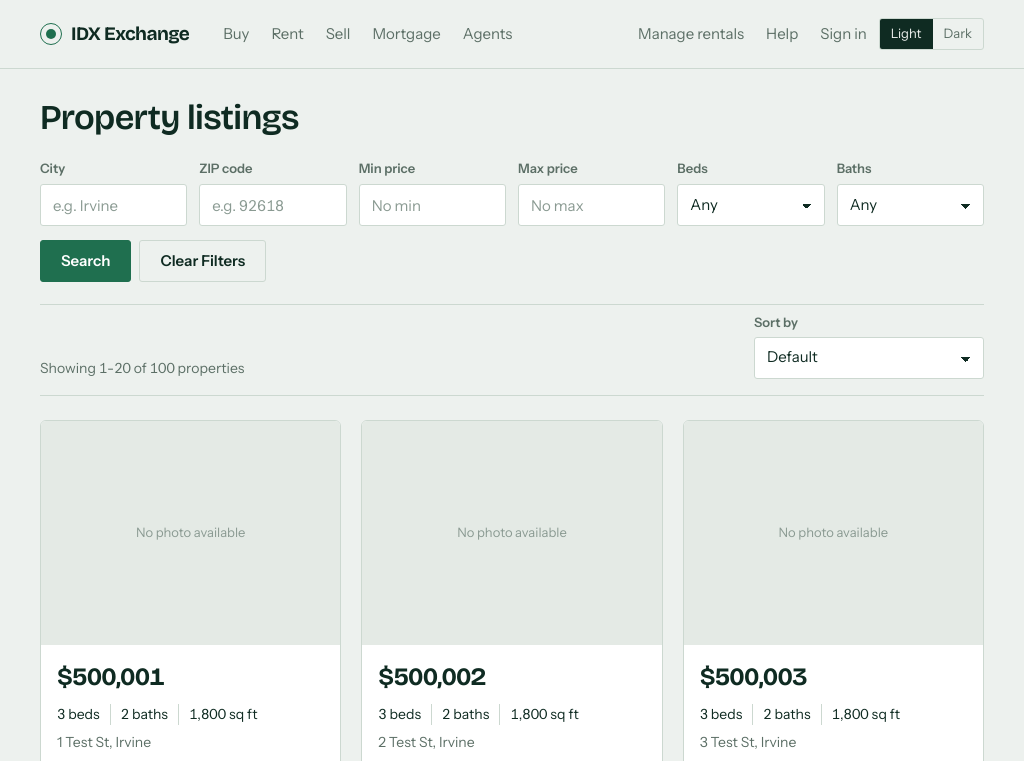
ListingsPage pagination › "Go to page" keeps the active filters
Check: the text "Showing 1-20 of 100 properties" is shown, box [40,358,244,379]
Step 1. Type "Irvine" into the field labelled "City" → (114, 205), box [40,184,187,226]
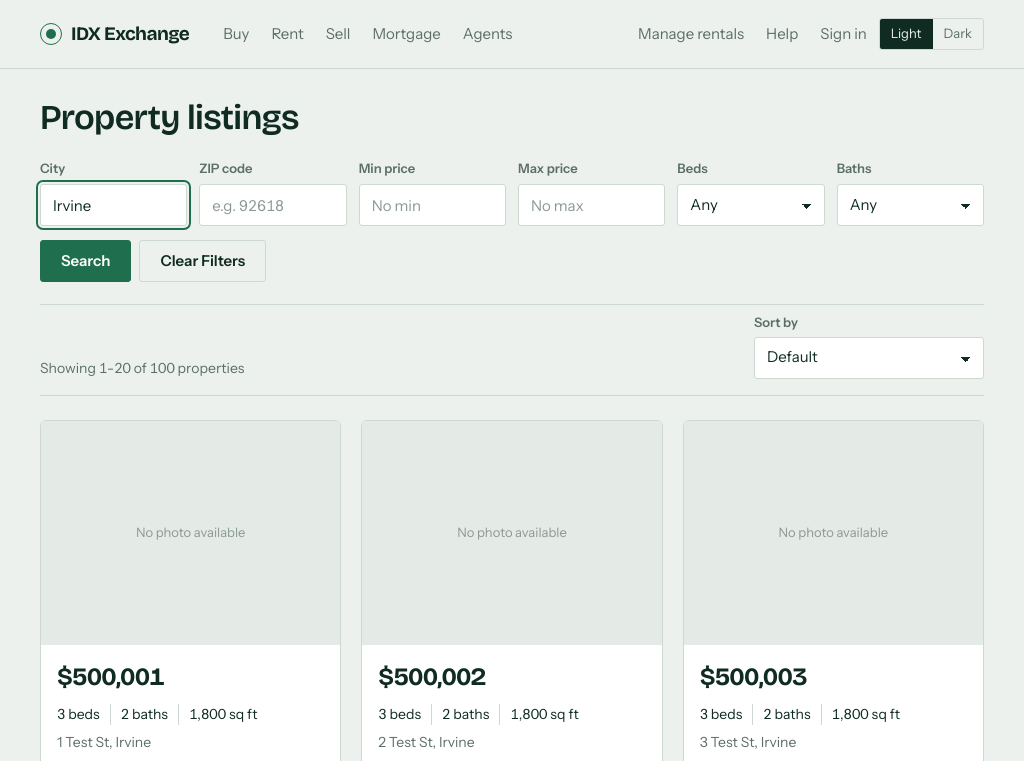
Step 2. Click the button "Search" → (86, 261), box [40,240,132,282]
(page scrolled)
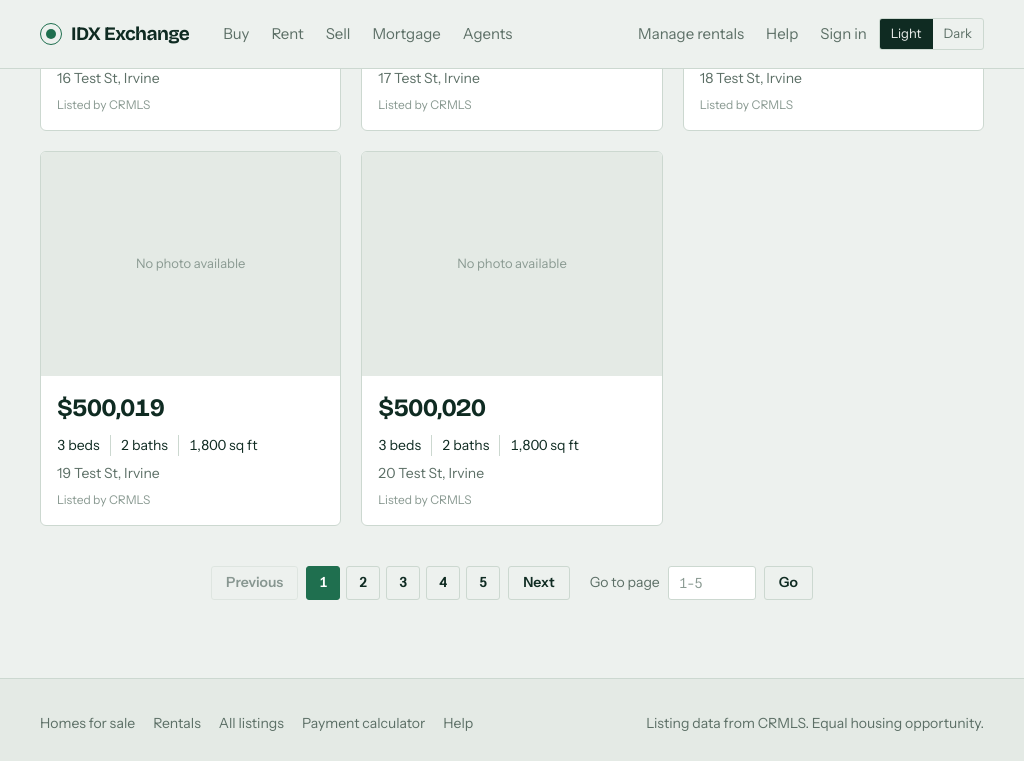
Step 3. Type "5" into the number field labelled "Go to page" → (712, 583), box [668,566,756,600]
Then press Enter
(page scrolled)
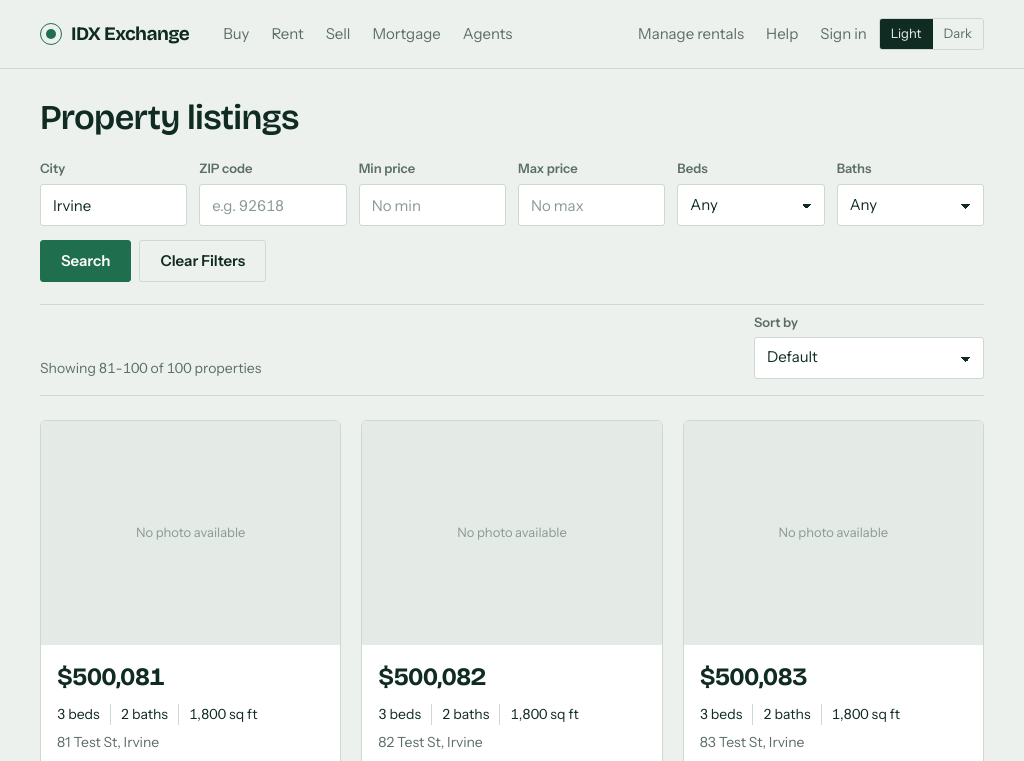
Check: the text "Showing 81-100 of 100 properties" is shown, box [40,358,261,379]
